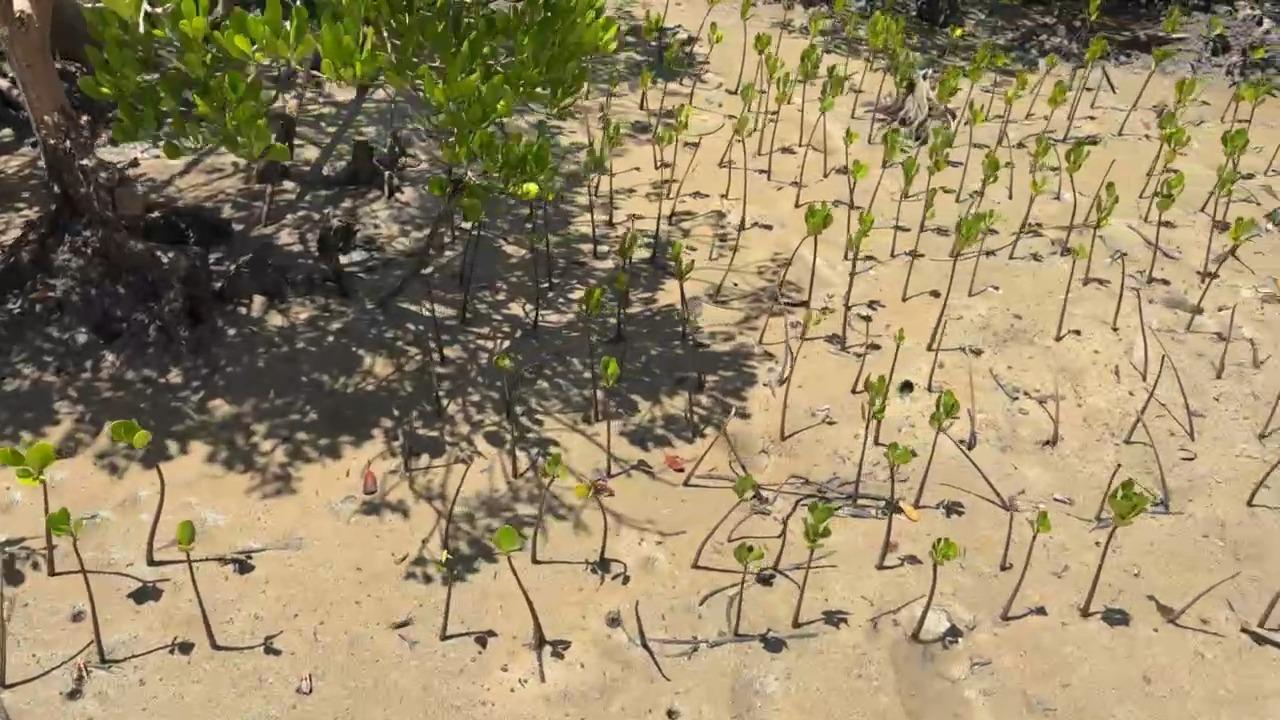Tree: (758, 204, 829, 346), (1081, 477, 1151, 619), (45, 507, 106, 661), (107, 418, 164, 568), (1187, 218, 1258, 330), (0, 443, 60, 575), (928, 216, 980, 350), (493, 523, 546, 647), (778, 308, 826, 440), (691, 474, 756, 569), (1033, 0, 1102, 89), (790, 498, 837, 626), (942, 429, 1010, 512), (913, 389, 960, 509), (1001, 509, 1052, 618), (174, 521, 217, 649), (836, 209, 875, 347), (1150, 325, 1196, 440), (876, 442, 917, 570), (1120, 45, 1177, 137), (849, 373, 888, 507), (909, 535, 958, 641), (868, 18, 909, 143), (794, 90, 836, 208), (1144, 126, 1191, 224), (1064, 42, 1108, 142), (800, 203, 832, 339), (1147, 172, 1186, 281), (1200, 128, 1250, 213), (849, 13, 889, 117), (682, 407, 736, 482), (1168, 570, 1243, 624), (786, 7, 826, 107), (873, 327, 907, 444), (903, 188, 938, 300), (954, 42, 997, 132), (1202, 166, 1236, 279), (1083, 182, 1120, 285), (679, 0, 723, 86), (1124, 352, 1165, 444), (530, 454, 564, 562), (1136, 412, 1172, 513), (864, 129, 906, 215), (1139, 113, 1180, 200), (1060, 139, 1090, 254), (493, 354, 521, 477), (1220, 49, 1267, 122), (1009, 173, 1047, 260), (731, 540, 765, 637), (1068, 34, 1109, 114), (651, 39, 683, 139), (967, 208, 1001, 300), (720, 81, 757, 165), (768, 71, 796, 182), (1054, 245, 1087, 339), (687, 21, 724, 104), (821, 63, 848, 175), (955, 103, 985, 203), (575, 474, 609, 561), (889, 157, 919, 255), (652, 128, 674, 261), (582, 288, 604, 420), (757, 50, 784, 155), (669, 137, 703, 218), (799, 44, 824, 147), (636, 9, 661, 109), (668, 242, 694, 337), (580, 147, 602, 258), (713, 222, 745, 298), (731, 114, 752, 229), (751, 31, 775, 129), (604, 118, 626, 224), (638, 67, 660, 170), (996, 76, 1028, 144), (460, 224, 483, 318), (603, 356, 621, 475), (1026, 55, 1060, 118), (735, 0, 757, 94), (1086, 159, 1119, 221), (529, 228, 549, 330), (925, 128, 955, 193), (849, 313, 873, 394), (439, 550, 460, 639), (667, 104, 687, 196), (594, 105, 614, 194), (1217, 302, 1239, 379), (844, 3, 865, 79), (1243, 81, 1274, 132), (925, 320, 949, 384), (1247, 460, 1280, 506), (975, 150, 999, 211), (1095, 464, 1121, 519), (611, 269, 632, 337), (988, 49, 1009, 117), (1221, 167, 1244, 228), (934, 69, 966, 112), (842, 128, 859, 208), (1043, 81, 1069, 133), (428, 288, 445, 363), (936, 25, 964, 68), (1228, 83, 1252, 133), (994, 91, 1015, 148), (892, 54, 916, 103), (1111, 254, 1126, 328), (1031, 133, 1052, 184), (1138, 290, 1149, 379), (1259, 393, 1280, 438), (619, 228, 640, 272), (1173, 78, 1197, 116), (1257, 592, 1280, 630), (0, 581, 8, 688), (848, 159, 865, 208), (1053, 381, 1064, 443), (775, 517, 788, 569), (1005, 133, 1015, 200), (968, 371, 976, 448), (635, 601, 648, 647), (1264, 144, 1280, 176), (1091, 73, 1105, 109), (660, 0, 669, 25)
